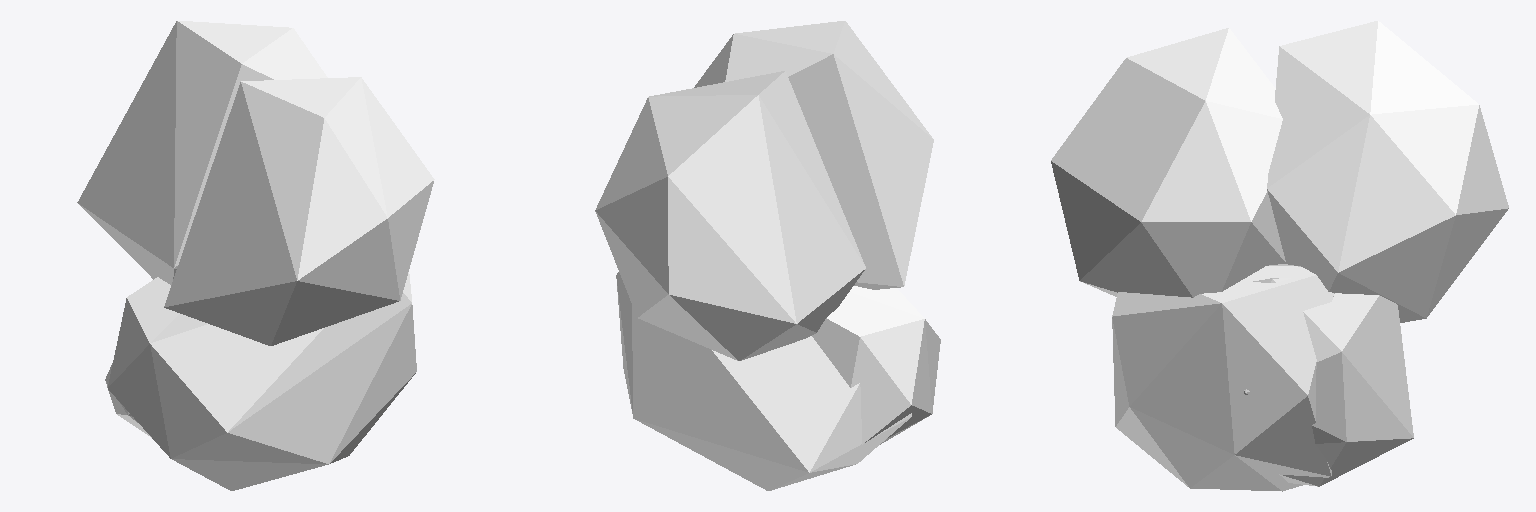
The robot description file, URDF, robot "hrp2_rom":
<robot name="hrp2_rom">
  <link name="base_link">
    <visual>
      <origin xyz="0 0 0" rpy="0 0 0.003" />
      <geometry>
        <mesh filename="package://hpp-rbprm-corba/meshes/hrp2_rom.stl"/>
      </geometry>
      <material name="white">
        <color rgba="1 1 1 1"/>
      </material>
    </visual>
    <collision>
      <origin xyz="0 0 0" rpy="0 0 0.003" />
      <geometry>
        <mesh filename="package://hpp-rbprm-corba/meshes/hrp2_rom.stl"/>
      </geometry>
    </collision>
  </link>
</robot>

--- Facts derived from the render (not from the file) ---
The picture shows the robot from 3 angles, left to right: view 1: azimuth 30°, elevation 25°; view 2: azimuth 150°, elevation 25°; view 3: azimuth 270°, elevation 25°; orthographic projection.
Robot: hrp2_rom — 1 links, 0 joints (none); root link base_link; default pose: every joint at zero.
Links seen in each view (by area): view 1: base_link; view 2: base_link; view 3: base_link.
Boxes of the visible links, <box> form: base_link: <box>77,21,434,490</box>; base_link: <box>595,21,940,490</box>; base_link: <box>1051,21,1508,491</box>.
Bounding box of the posed robot: 1.26 × 1.65 × 1.77 m (x, y, z).
1 mesh visuals loaded from 1 distinct referenced files (1 binary STL).